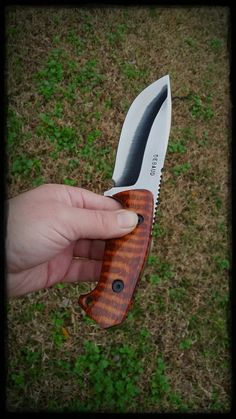knife: (71, 71, 184, 344)
